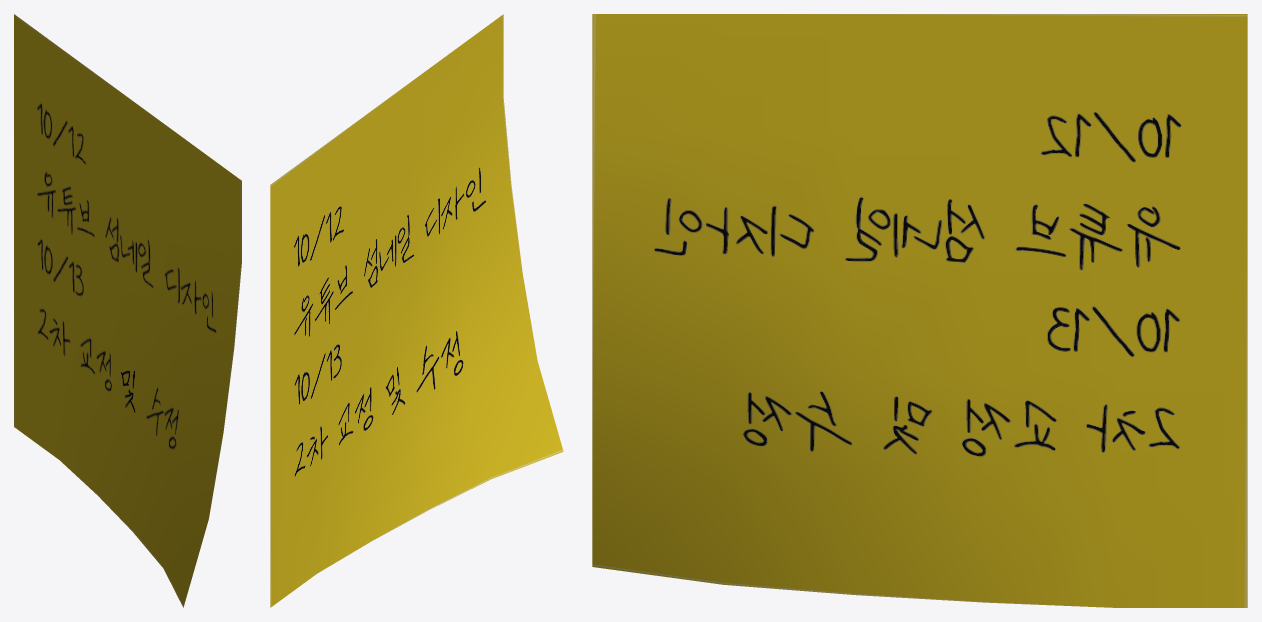
File: memo4.fbx
3 views of the same model, side by side, from view 1: azimuth 30°, elevation 25°; view 2: azimuth 150°, elevation 25°; view 3: azimuth 270°, elevation 25° (orthographic). The views are drawn at different scales.
Visible parts, largest first — view 1: memo9; view 2: memo9; view 3: memo9.
Boxes of the visible parts, left/top/right/bottom form: memo9: left=14, top=14, right=241, bottom=607; memo9: left=270, top=14, right=563, bottom=607; memo9: left=592, top=14, right=1247, bottom=607.
Bounding box in the file's own units: 0.000723 × 0.00488 × 0.00488.
Materials: 1 (1 with a texture image).
